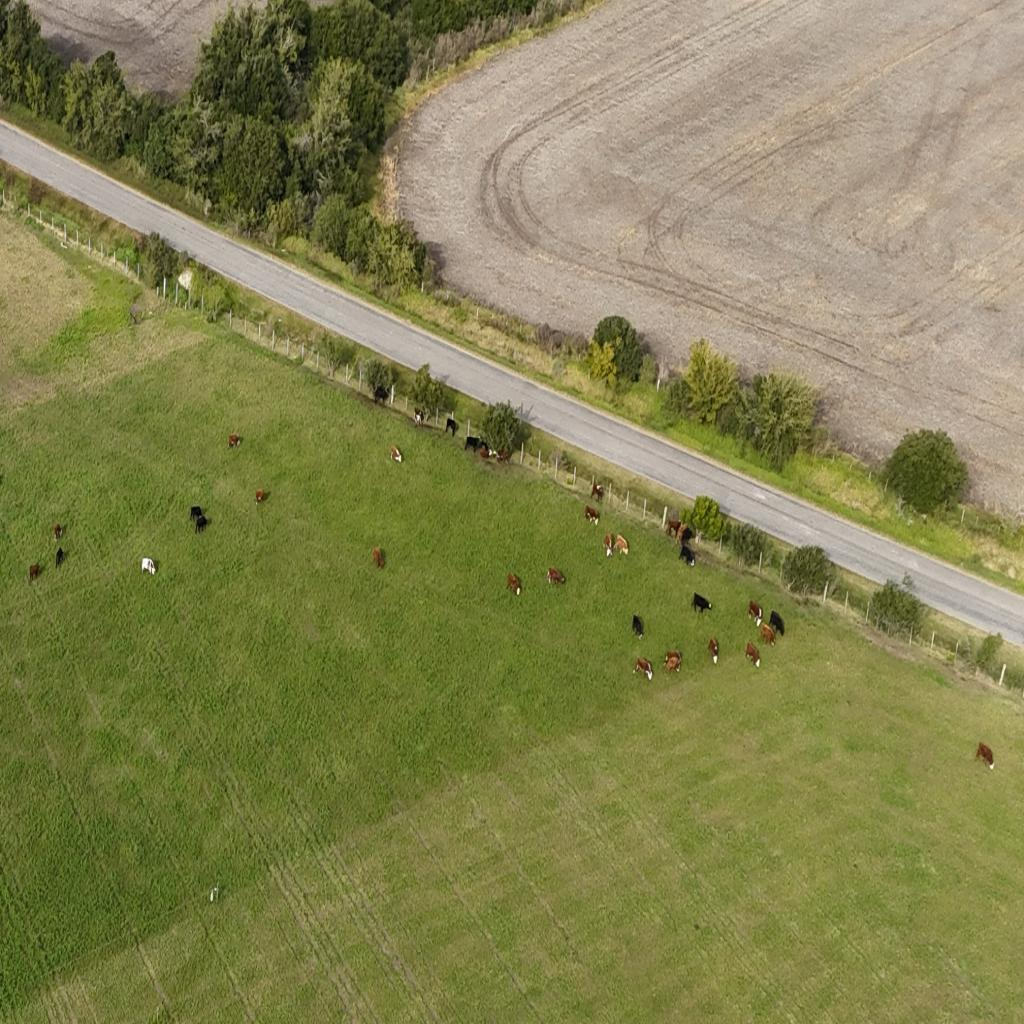cow: (630, 649, 658, 684), (975, 744, 994, 772), (768, 610, 785, 639), (691, 592, 712, 615), (662, 651, 682, 675), (679, 544, 696, 570), (745, 641, 760, 668), (546, 567, 566, 587), (760, 622, 776, 647), (677, 523, 694, 546), (506, 573, 522, 597), (666, 518, 683, 540), (613, 534, 629, 557), (373, 385, 389, 407), (748, 600, 762, 625), (585, 506, 600, 528), (194, 514, 210, 534), (632, 614, 644, 640), (708, 636, 719, 664), (141, 556, 156, 576), (590, 480, 603, 503), (464, 436, 480, 454), (603, 533, 614, 558), (477, 445, 493, 462), (496, 448, 512, 465), (372, 547, 384, 569), (412, 408, 426, 426), (446, 416, 458, 437), (190, 505, 204, 523), (29, 562, 41, 582), (390, 446, 402, 464), (56, 547, 65, 569), (254, 489, 267, 504), (228, 433, 240, 449), (53, 524, 62, 542)
